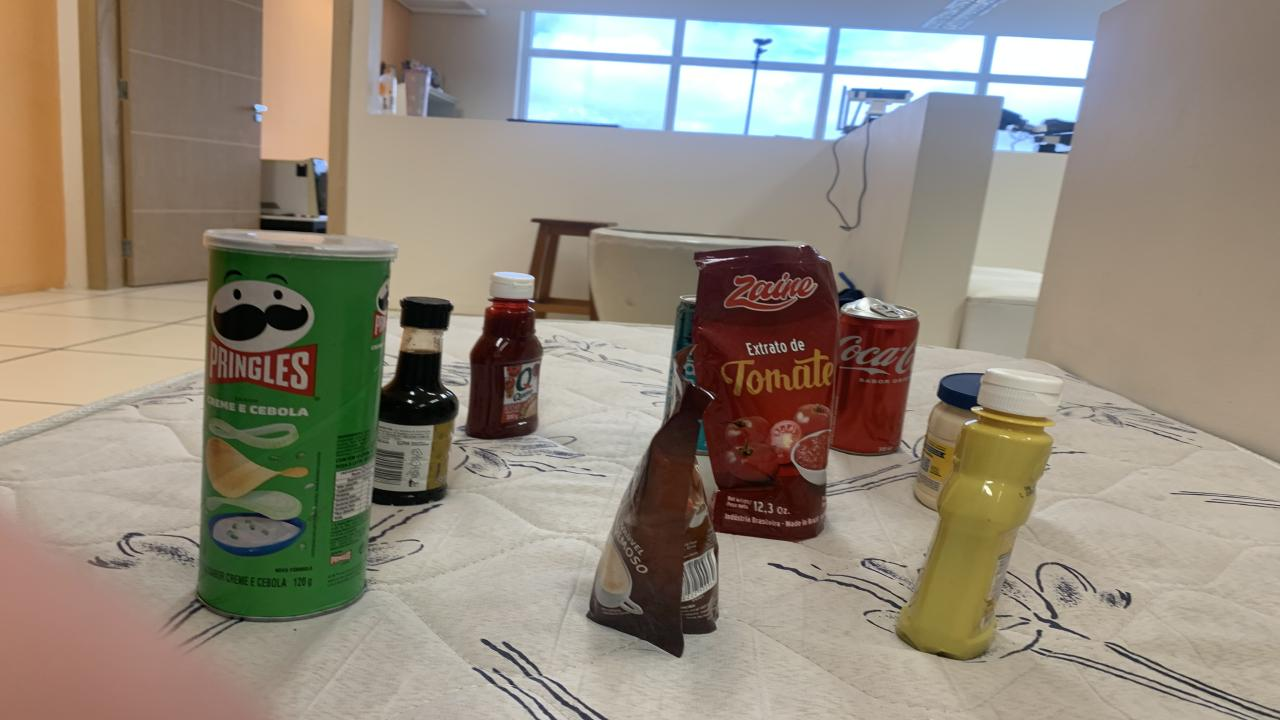Coffee-Pantry_Items: (588, 347, 718, 656)
Coke-Drinks: (830, 298, 920, 456)
English_Sauce-Pantry_Items: (372, 296, 458, 506), (372, 296, 458, 504)
Ketchup-Pantry_Items: (465, 272, 542, 439)
Mayonnaise-Pantry_Items: (912, 373, 982, 510)
Mustard-Pantry_Items: (898, 369, 1062, 660)
Pringles-Snacks: (198, 229, 395, 619)
Tomato_Sauce-Pantry_Items: (692, 246, 838, 542)
